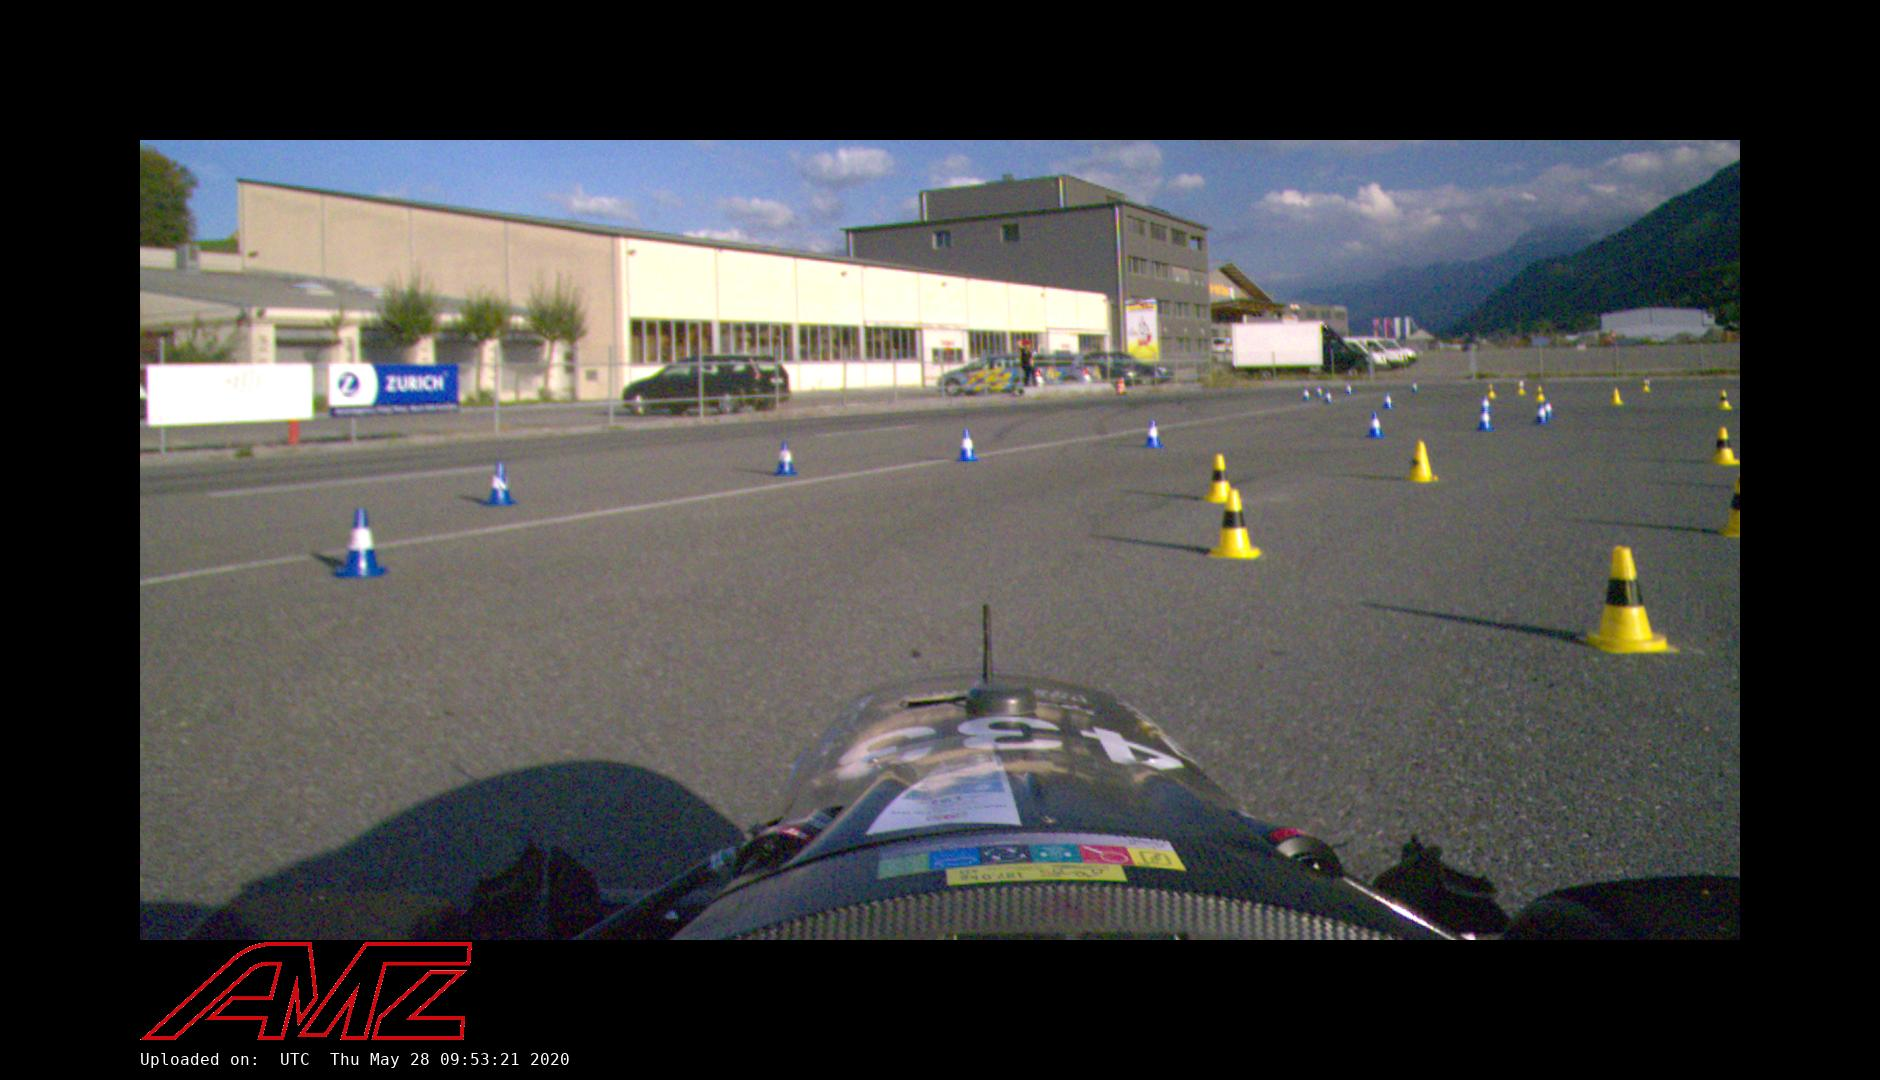blue_cone: (334, 506, 387, 577), (482, 461, 516, 506), (773, 441, 797, 475), (953, 429, 977, 461), (1140, 419, 1163, 448), (1365, 411, 1385, 439), (1476, 408, 1495, 431), (1534, 403, 1549, 425), (1478, 394, 1493, 413), (1540, 399, 1555, 419), (1382, 391, 1395, 410), (1325, 389, 1333, 404), (1302, 388, 1311, 400), (1410, 380, 1419, 393), (1345, 381, 1353, 395), (1316, 385, 1323, 397)
yellow_cone: (1577, 545, 1679, 652), (1203, 490, 1263, 559), (1202, 453, 1238, 503), (1405, 441, 1438, 483), (1719, 474, 1739, 537), (1710, 428, 1739, 466), (1716, 389, 1732, 410), (1609, 388, 1626, 406), (1485, 382, 1497, 399), (1534, 386, 1546, 400), (1641, 379, 1651, 391)
